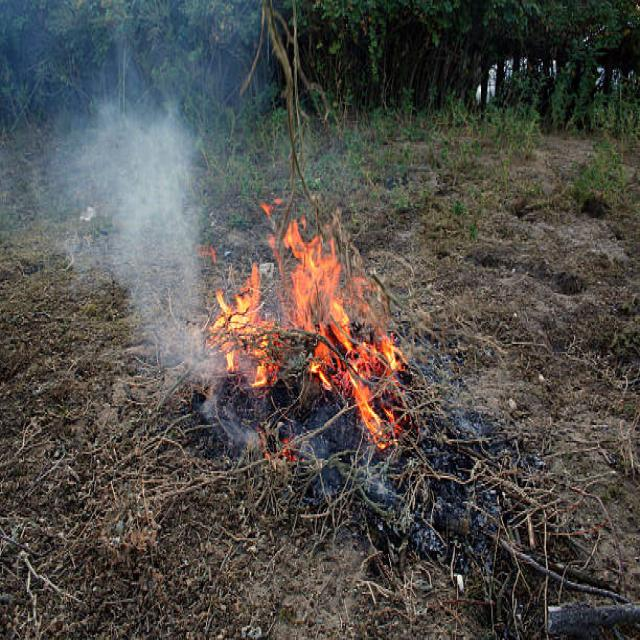fire: (205, 262, 284, 398), (268, 216, 341, 340), (349, 333, 411, 450), (305, 328, 376, 401), (255, 420, 305, 474), (340, 278, 378, 334)
